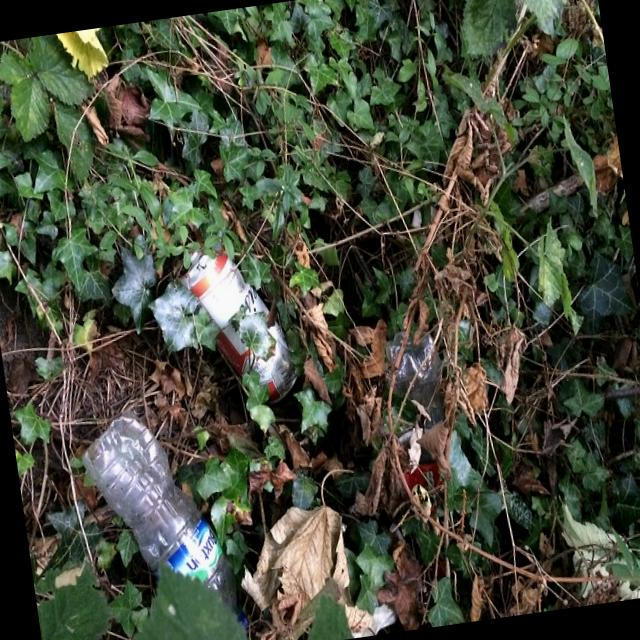Recycle: (77, 401, 254, 640), (177, 238, 305, 412)
Trash: (383, 327, 458, 431), (402, 460, 452, 530)
